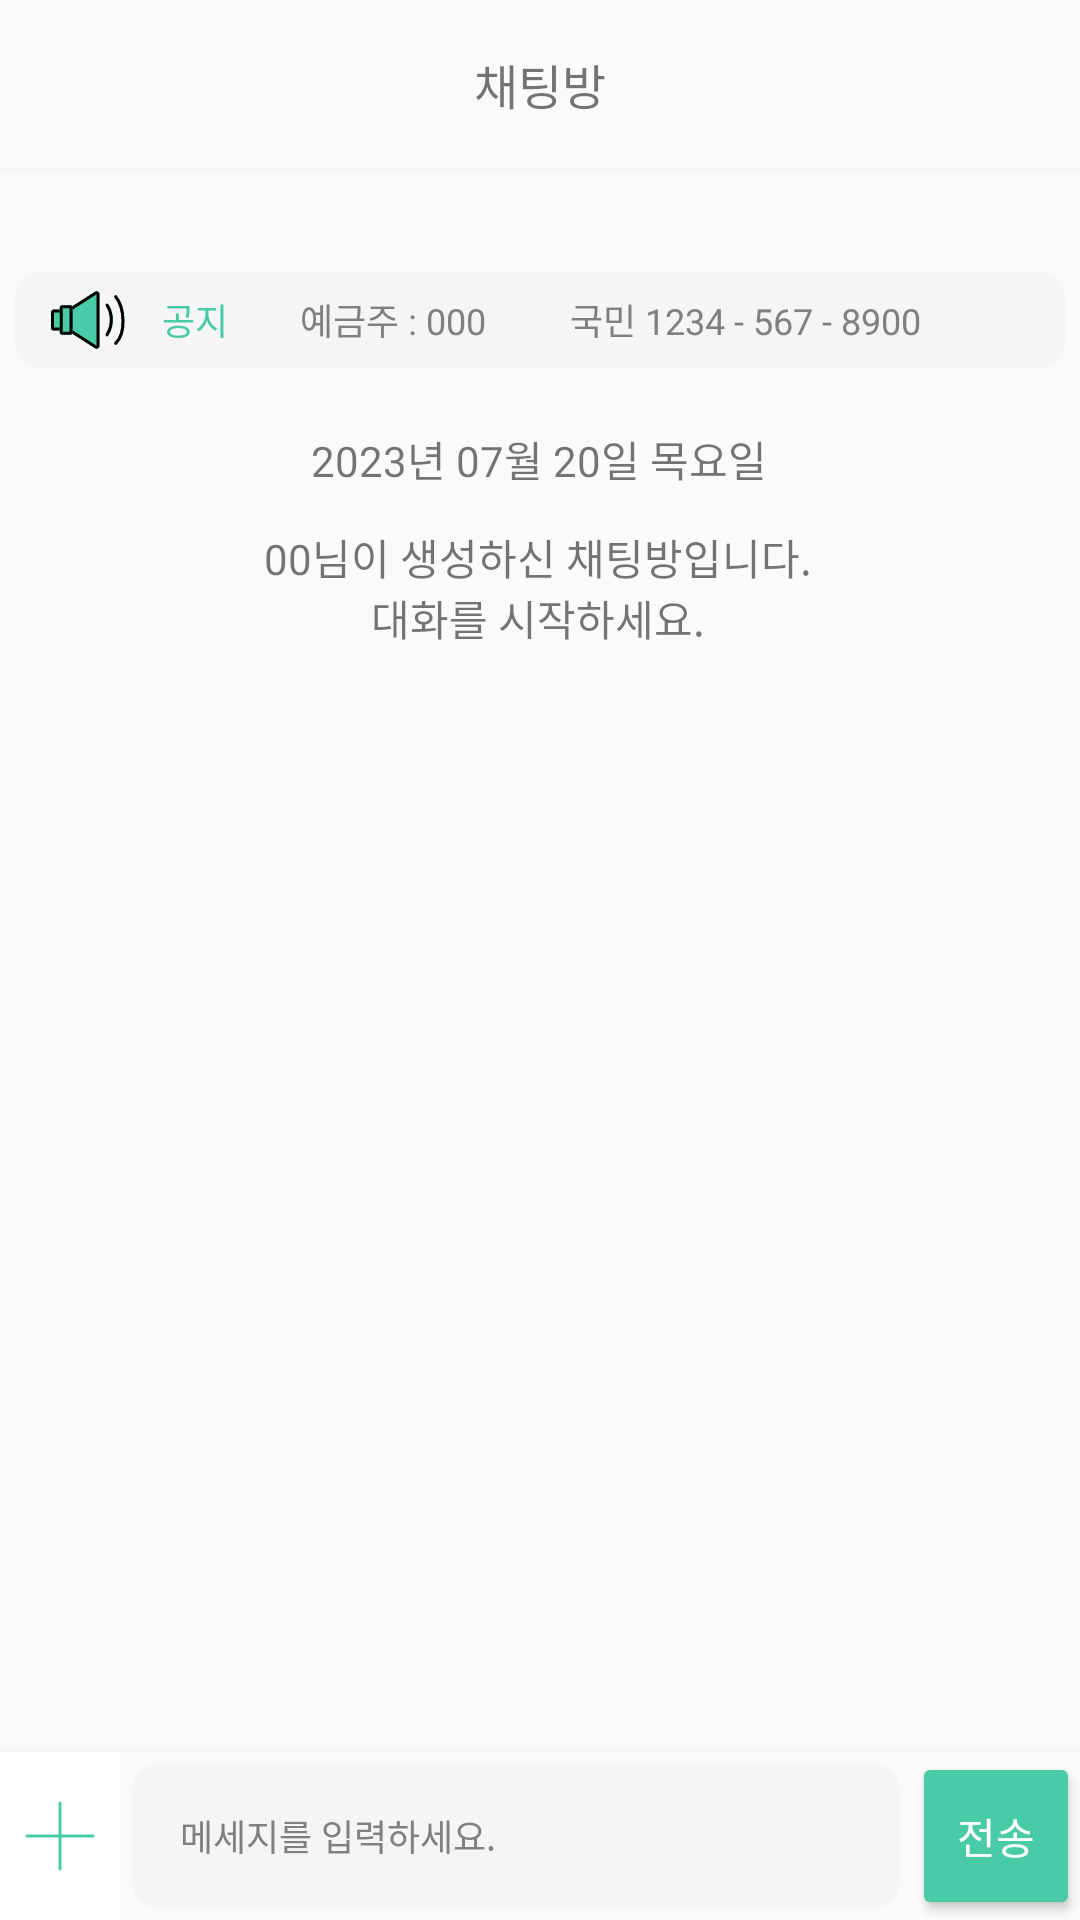

Locate icon controls on the screen. Image size 1080x1920, boxes as (x1, y1, x2, y2).
notice: (51, 291, 125, 349)
plus: (25, 1801, 95, 1871)
